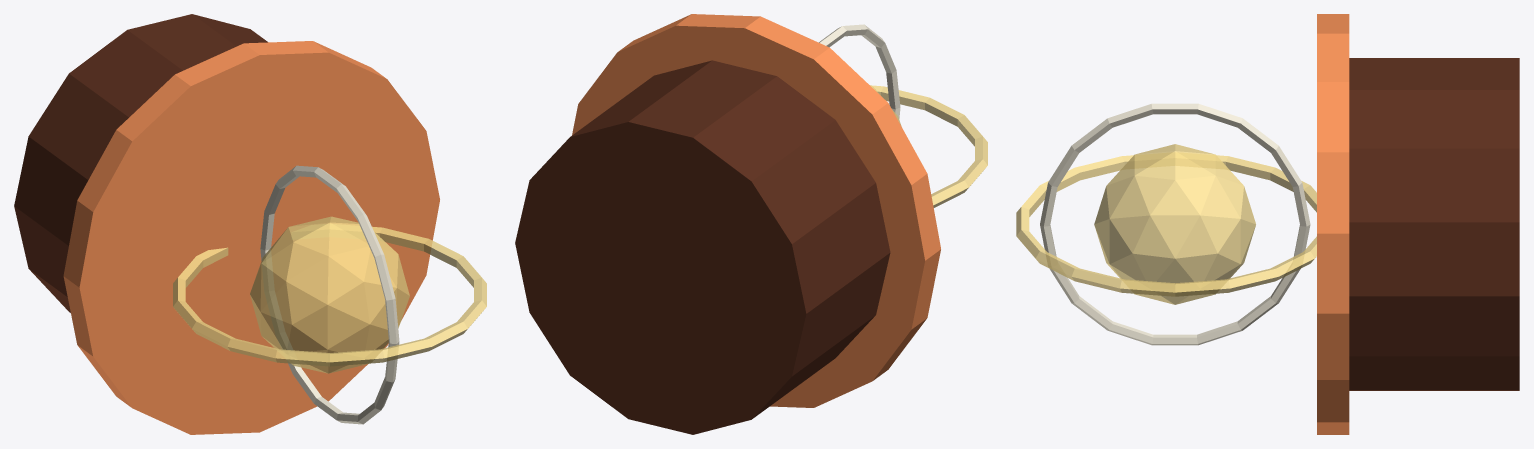
File: 09_high_tier_relic_pedestal.glb
3 views of the same model, side by side, from view 1: azimuth 30°, elevation 25°; view 2: azimuth 150°, elevation 25°; view 3: azimuth 270°, elevation 25° (orthographic).
Parts seen in each view (by area): view 1: top_rim, relic_pedestal, floating_relic_core, relic_orbit_a, relic_orbit_b; view 2: relic_pedestal, top_rim, relic_orbit_a, relic_orbit_b; view 3: relic_pedestal, floating_relic_core, top_rim, relic_orbit_b, relic_orbit_a.
Part boxes in pixels (x1,y1,x2,y2): top_rim: [63, 41, 439, 434]; relic_pedestal: [14, 14, 267, 312]; floating_relic_core: [250, 216, 409, 373]; relic_orbit_a: [173, 226, 486, 366]; relic_orbit_b: [260, 165, 399, 424]; relic_pedestal: [515, 60, 890, 434]; top_rim: [572, 14, 940, 407]; relic_orbit_a: [871, 85, 987, 207]; relic_orbit_b: [819, 24, 900, 119]; relic_pedestal: [1349, 58, 1519, 390]; floating_relic_core: [1094, 144, 1255, 304]; top_rim: [1317, 14, 1349, 434]; relic_orbit_b: [1040, 103, 1310, 345]; relic_orbit_a: [1016, 155, 1316, 296].
Size of the model in its own units: 1.04 by 1.04 by 1.24.
